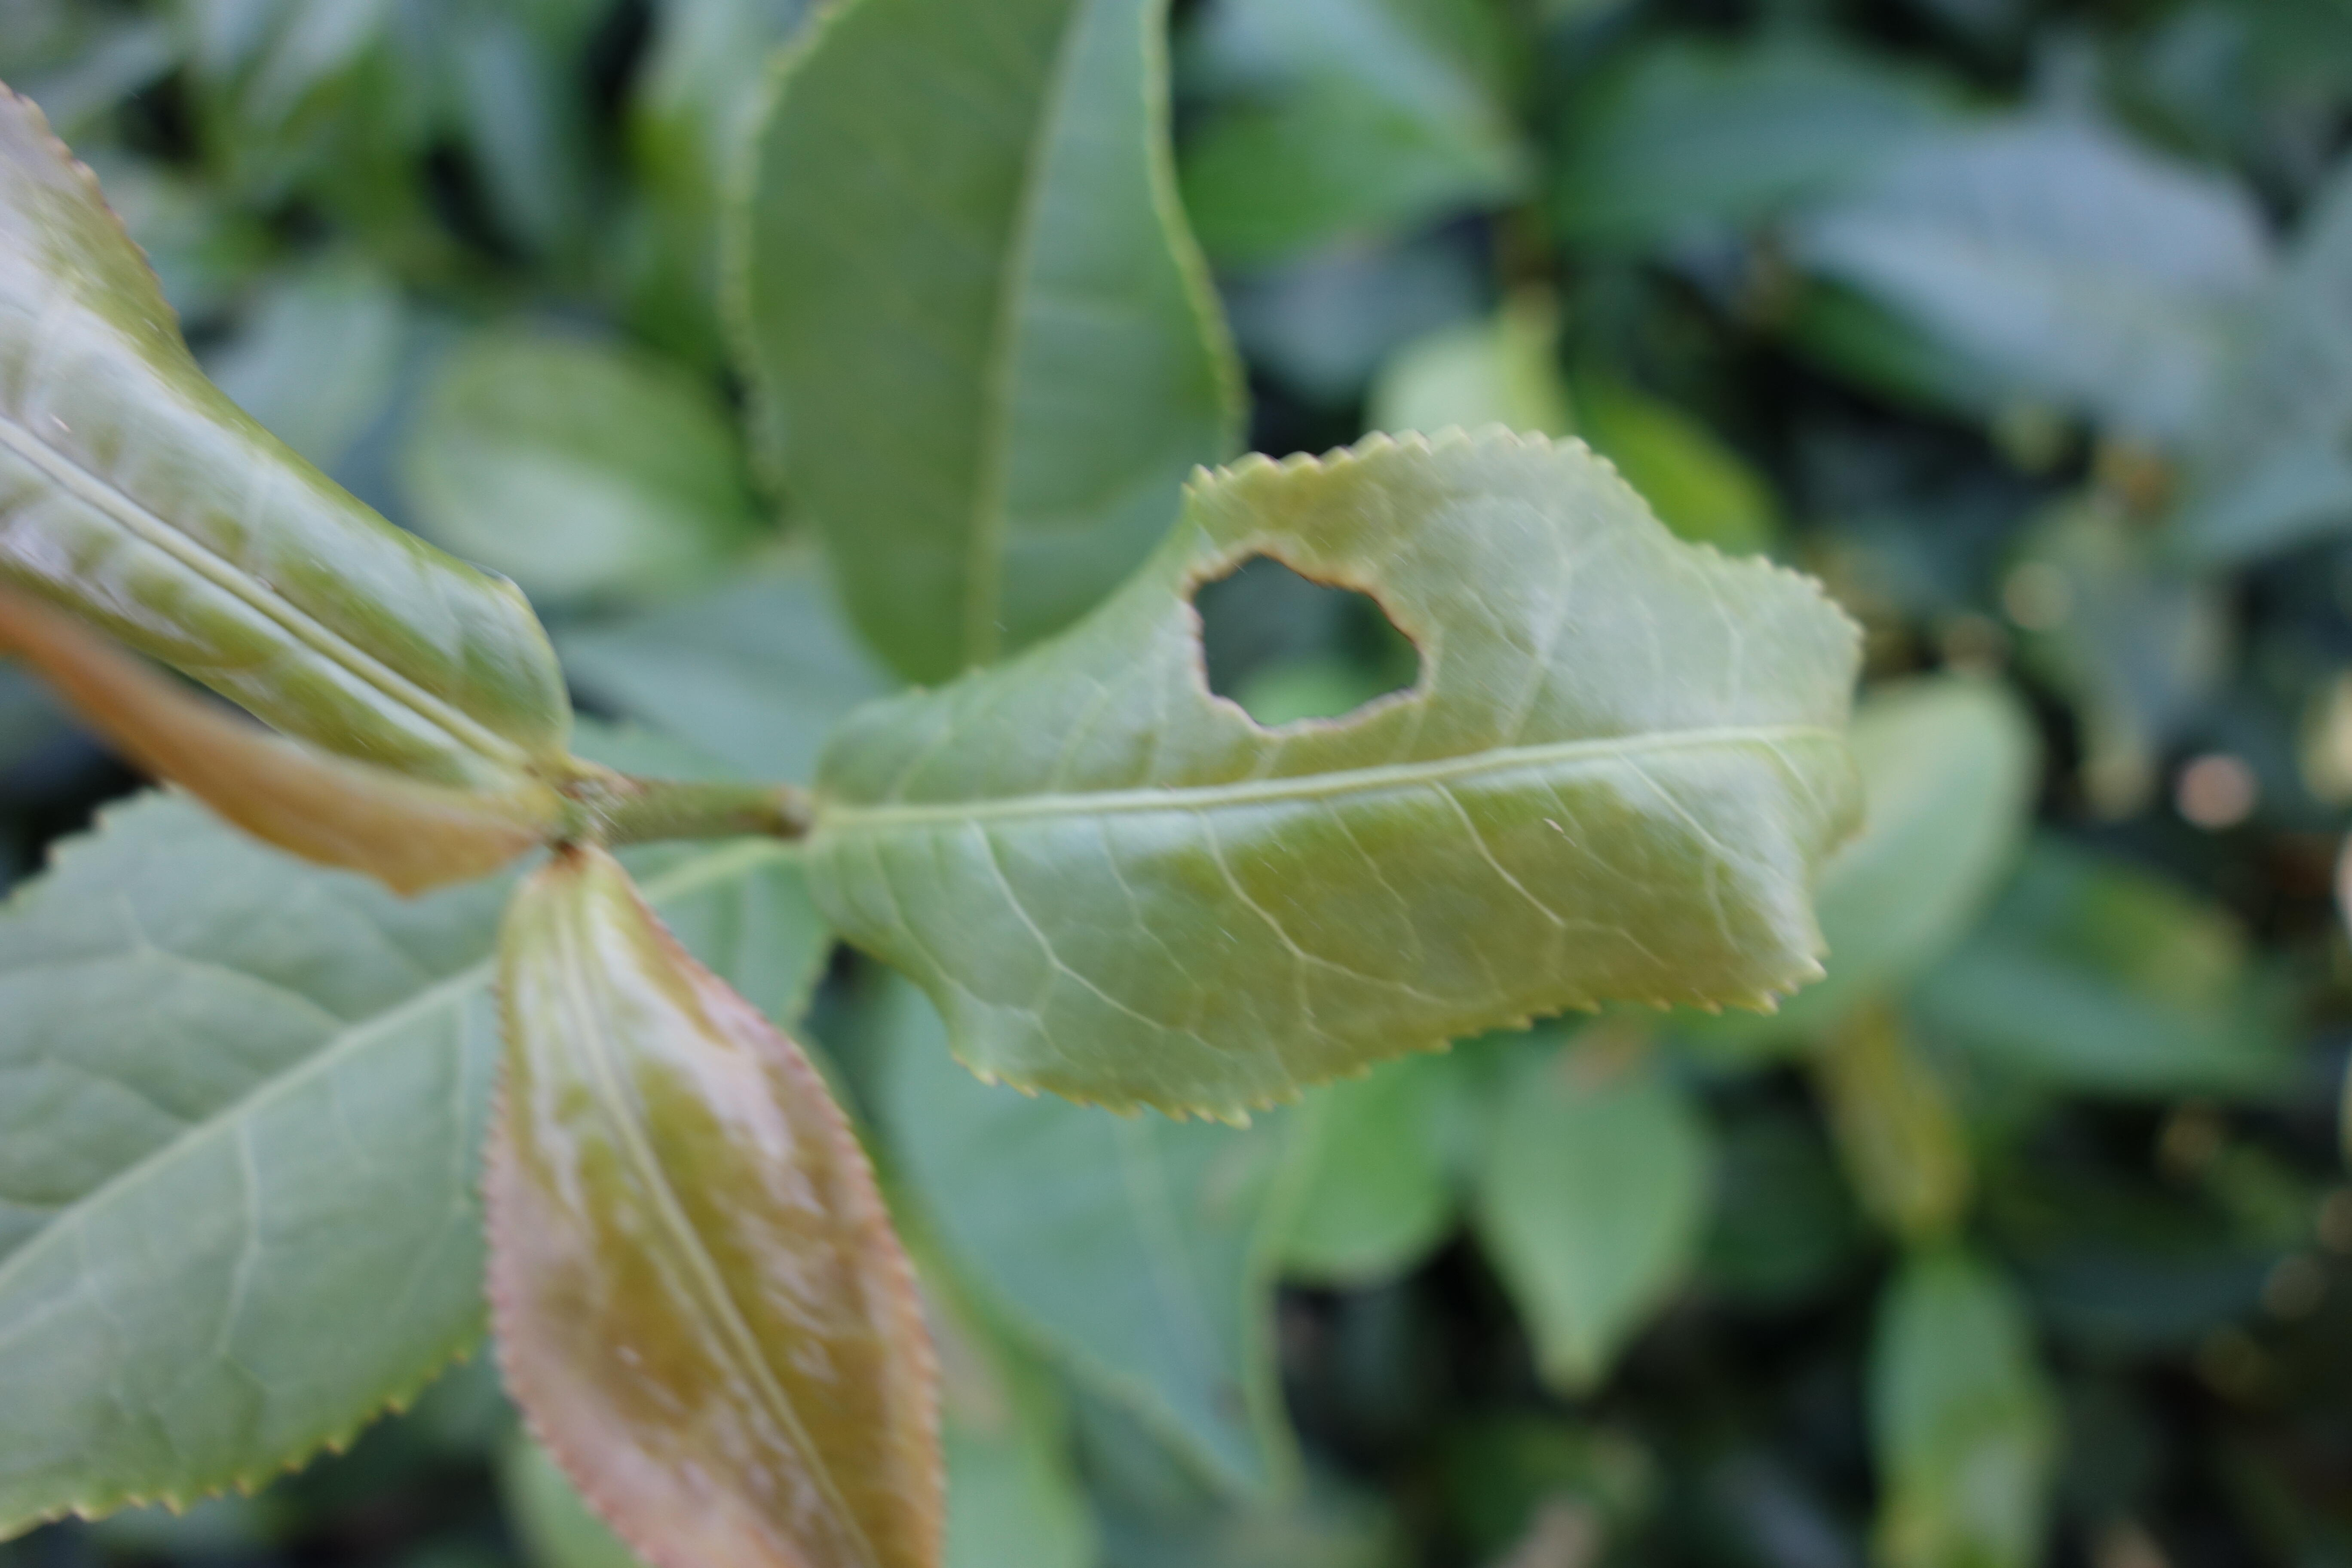chihuo_low: (805, 425, 1876, 1127)
tanju_low: (3, 75, 584, 906), (486, 845, 955, 1563)
